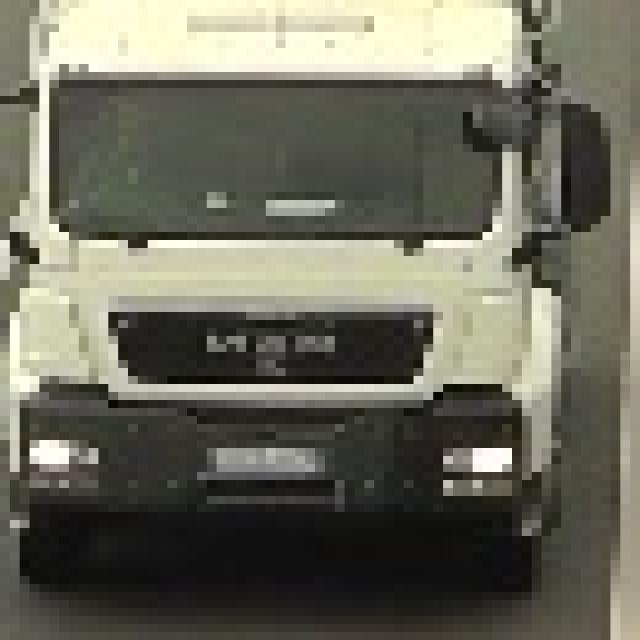TRUCK: (3, 3, 607, 592)
